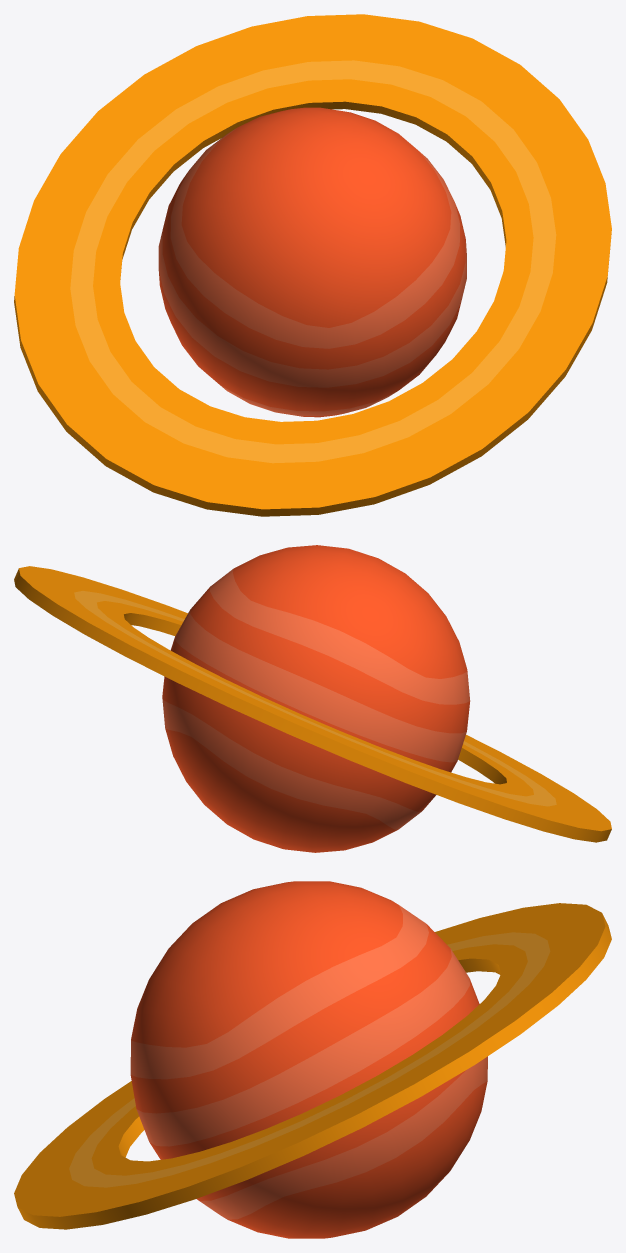
The model's file is ringed_planet.glb.
3 renders of one model, top to bottom at view 1: azimuth 30°, elevation 25°; view 2: azimuth 150°, elevation 25°; view 3: azimuth 270°, elevation 25°, orthographic. The views are drawn at different scales.
Parts seen in each view (by area): view 1: Cube.874; view 2: Cube.874; view 3: Cube.874.
Boxes of the visible parts, x1,y1,x2,y2 form: Cube.874: [14, 14, 611, 516]; Cube.874: [14, 545, 611, 852]; Cube.874: [14, 881, 611, 1238].
Size of the model in its own units: 2.42 by 1.21 by 1.99.
1 material, 1 textured.
